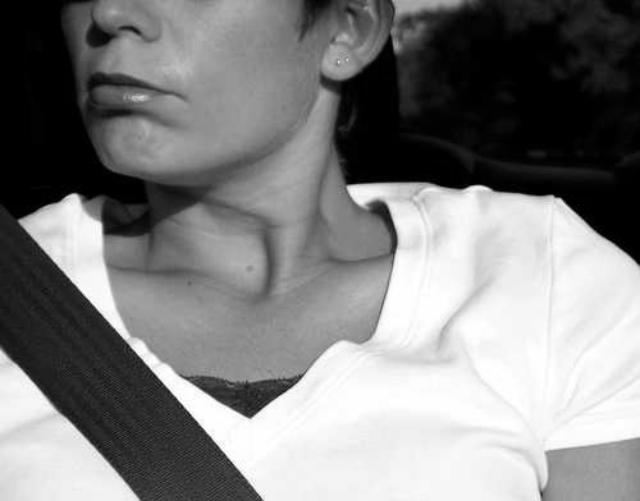Seatbelt: (0, 198, 267, 501)
